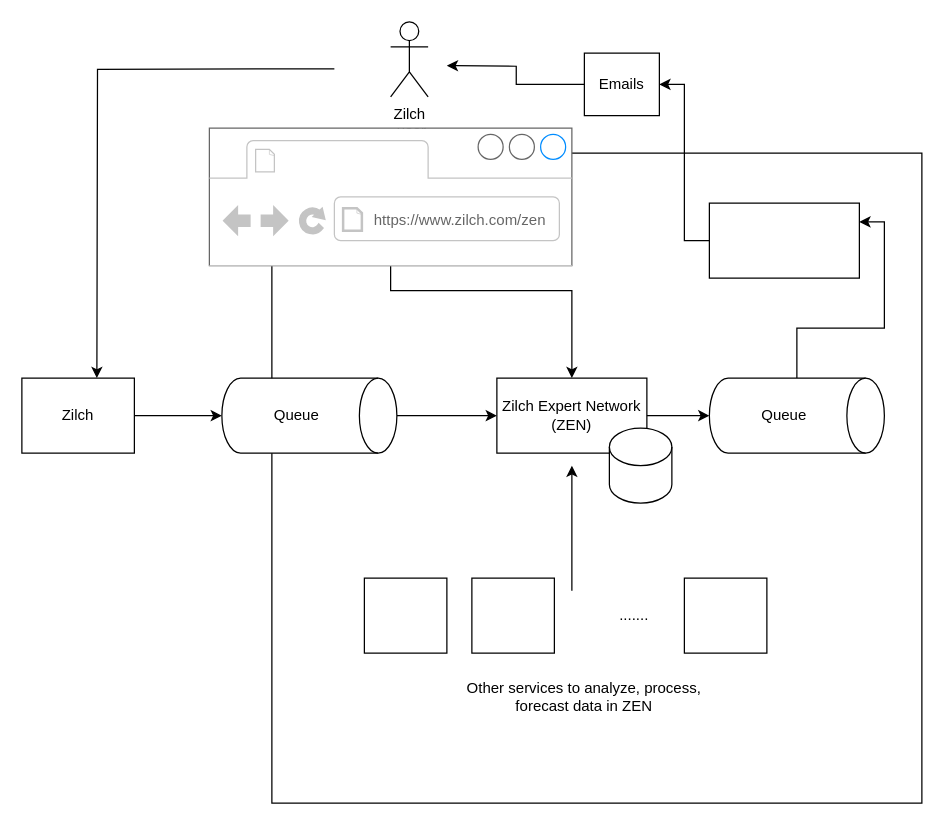
The diagram is 944 pixels wide and 825 high, and some of its shapes have lost their labels. Here are the shapes that lost their labels. From the top down, the box of each, then its label:
(283, 142, 422, 176): Page 1
(708, 202, 859, 278): MessageSender
(608, 427, 672, 503): DB
